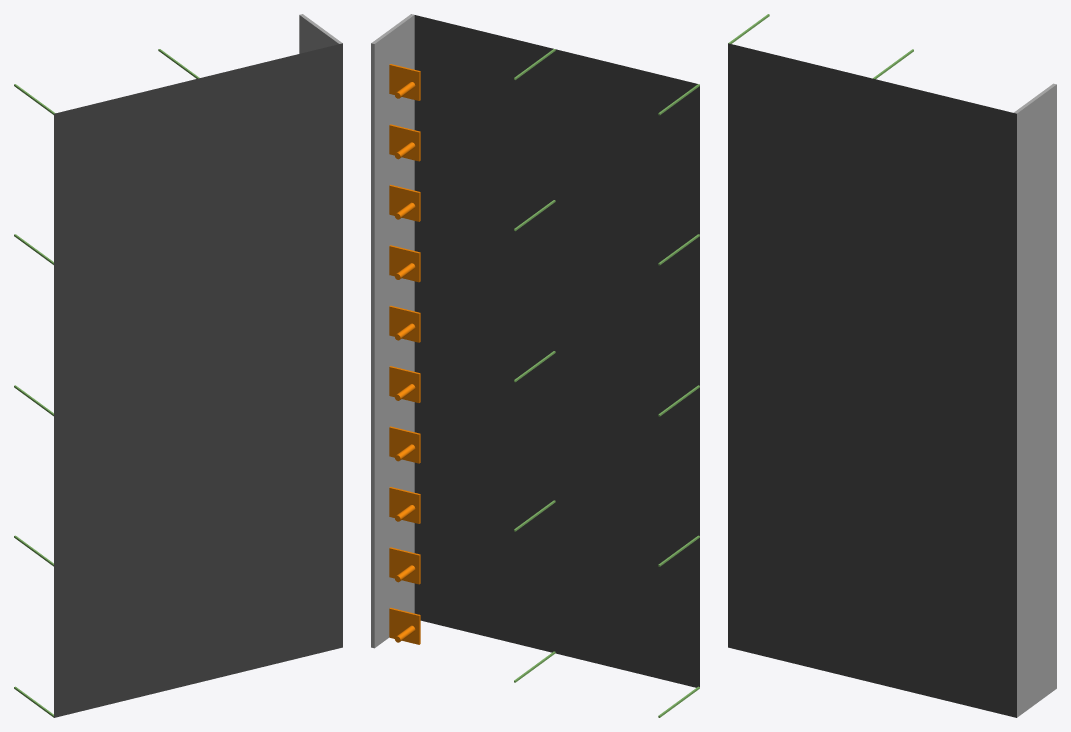
File: Hangar.obj
3 renders of one model, left to right at view 1: azimuth 30°, elevation 25°; view 2: azimuth 150°, elevation 25°; view 3: azimuth 330°, elevation 25°, orthographic.
Parts seen in each view (by area): view 1: mesh141, mesh151; view 2: mesh144, mesh151, mesh150, mesh10, mesh34, mesh26, mesh66, mesh50, mesh58, mesh2, mesh74, mesh18 (+1 smaller); view 3: mesh141, mesh149.
Part boxes in pixels (box(x1,y1,x2,y2)): mesh141: box(54, 43, 342, 717); mesh151: box(299, 15, 338, 53); mesh144: box(414, 15, 699, 687); mesh151: box(374, 15, 414, 647); mesh150: box(371, 43, 374, 648); mesh10: box(389, 125, 419, 161); mesh34: box(389, 306, 419, 342); mesh26: box(389, 246, 419, 282); mesh66: box(389, 548, 419, 584); mesh50: box(389, 427, 419, 463); mesh58: box(389, 488, 419, 523); mesh2: box(389, 65, 419, 100); mesh74: box(389, 608, 419, 644); mesh18: box(389, 185, 419, 221); mesh141: box(728, 43, 1016, 717); mesh149: box(1017, 84, 1056, 717).
Size of the model in its own units: 12.5 by 25 by 3.
